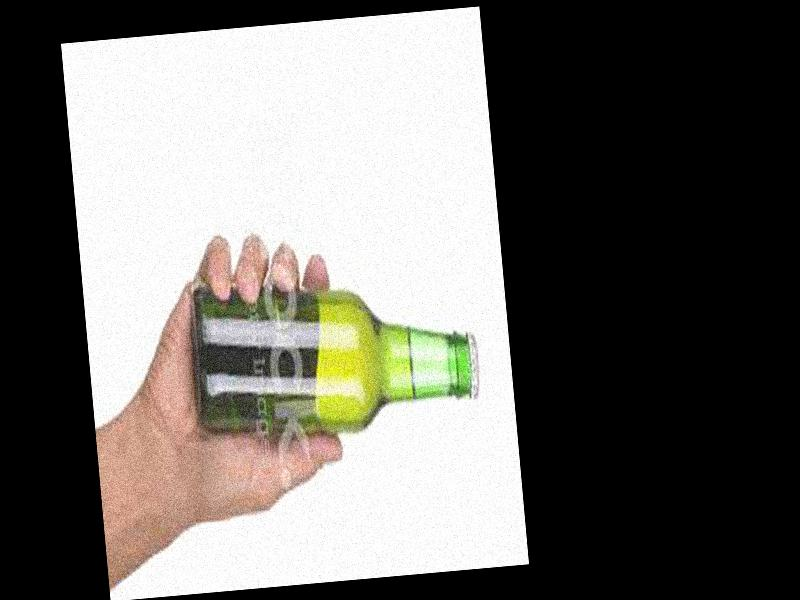Beer: (188, 271, 484, 449)
